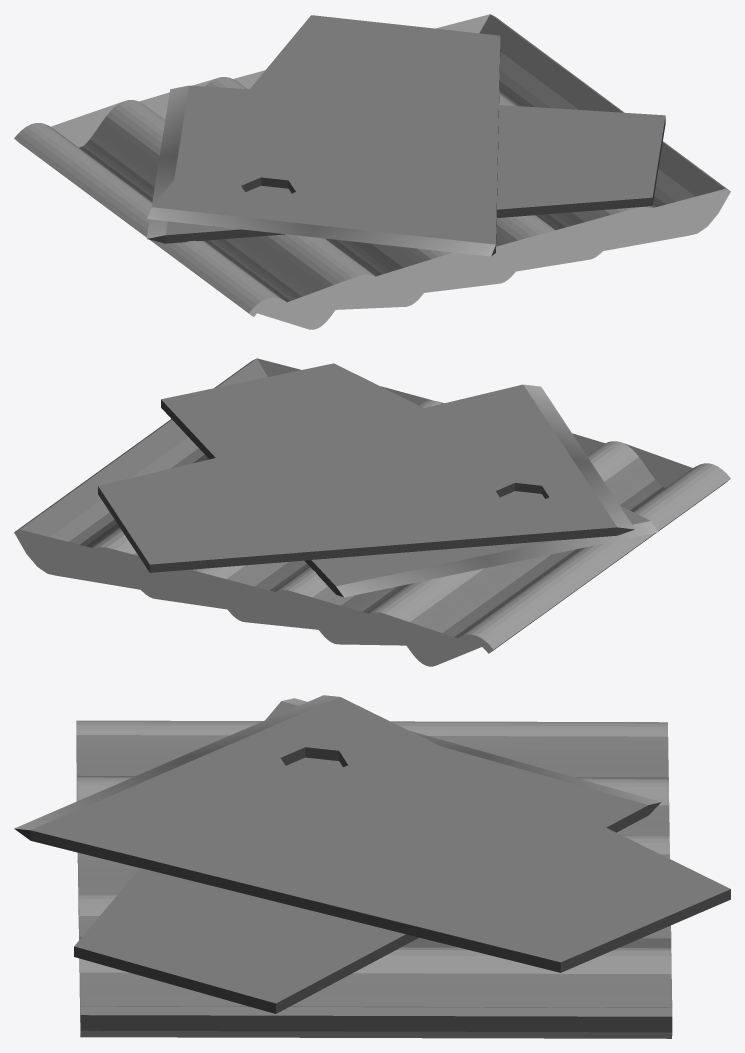
File: SM_Int_Sheet.fbx
3 views of the same model, one above another, from view 1: azimuth 30°, elevation 25°; view 2: azimuth 150°, elevation 25°; view 3: azimuth 270°, elevation 25° (orthographic). The views are drawn at different scales.
Visible parts, largest first — view 1: SM_Int_Sheet; view 2: SM_Int_Sheet; view 3: SM_Int_Sheet.
Boxes of the visible parts, <box> form: SM_Int_Sheet: <box>14,14,730,329</box>; SM_Int_Sheet: <box>14,358,730,666</box>; SM_Int_Sheet: <box>14,695,730,1038</box>.
Bounding box in the file's own units: 1 × 0.1099 × 0.9751.
Materials: 1 (1 with a texture image).
